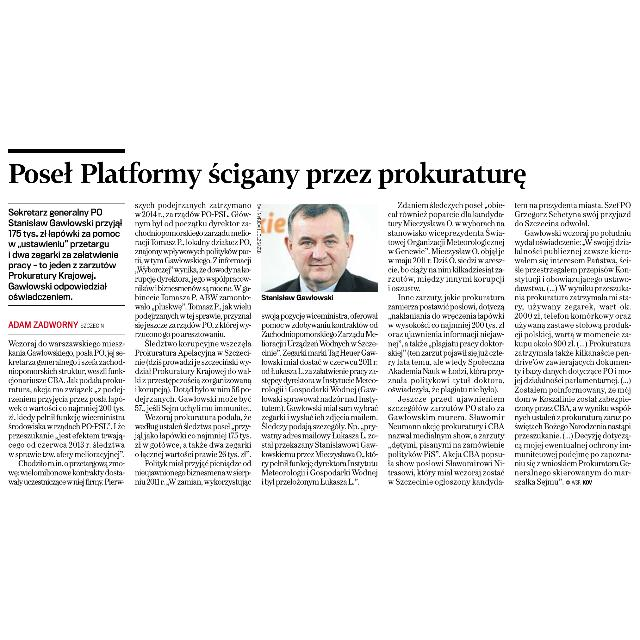author: (5, 316, 80, 330)
body: (511, 199, 634, 486), (384, 200, 506, 488), (132, 201, 254, 487), (258, 311, 379, 487), (6, 336, 126, 486)
caption: (259, 292, 339, 302)
image: (260, 200, 380, 292)
lead: (5, 205, 126, 302)
title: (5, 157, 532, 196)
